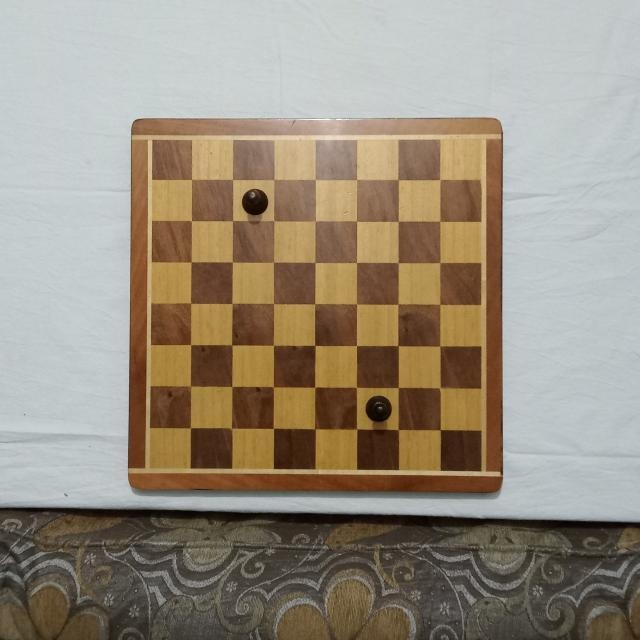black-pawn: (241, 187, 271, 217), (364, 395, 395, 423)
